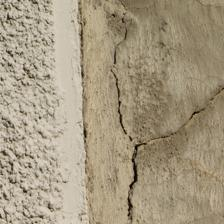Crack: (146, 88, 224, 146), (106, 9, 137, 140), (123, 141, 152, 222)
